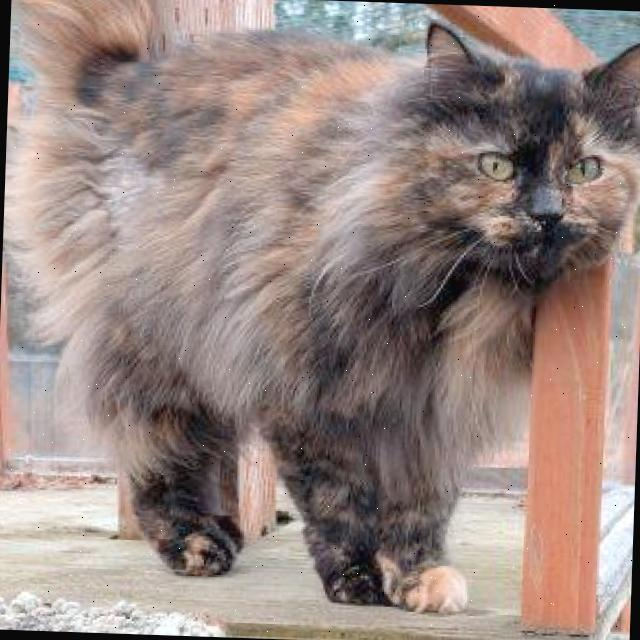calico_cat: (367, 6, 640, 322)
